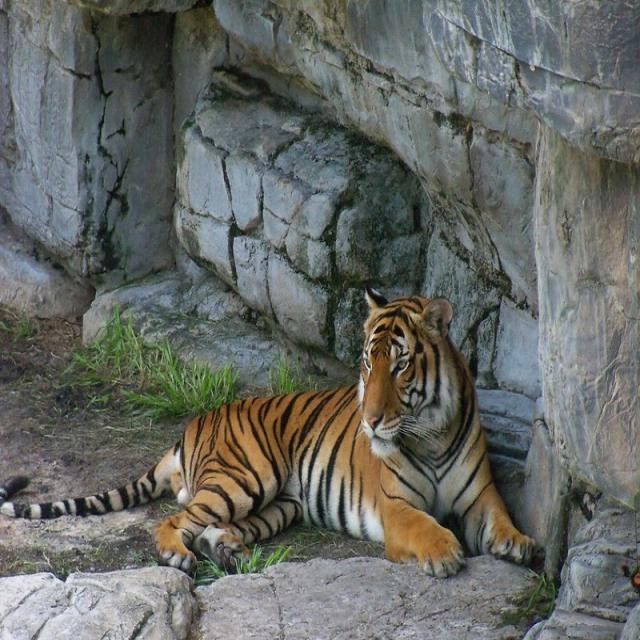Tiger: (0, 291, 533, 576)
